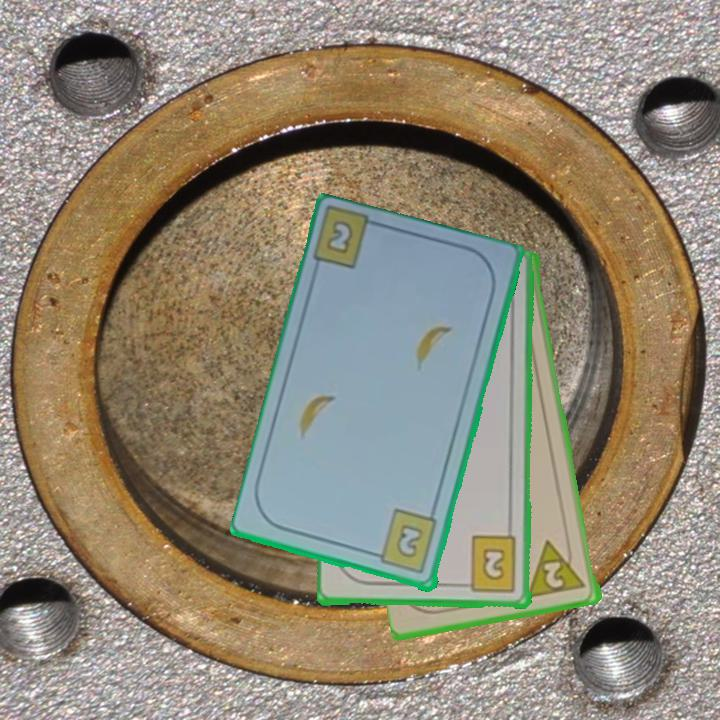2b: (368, 507, 440, 577), (458, 534, 520, 596), (322, 217, 357, 258)
2p: (526, 534, 589, 601)
